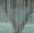Give way: (0, 3, 32, 32)
